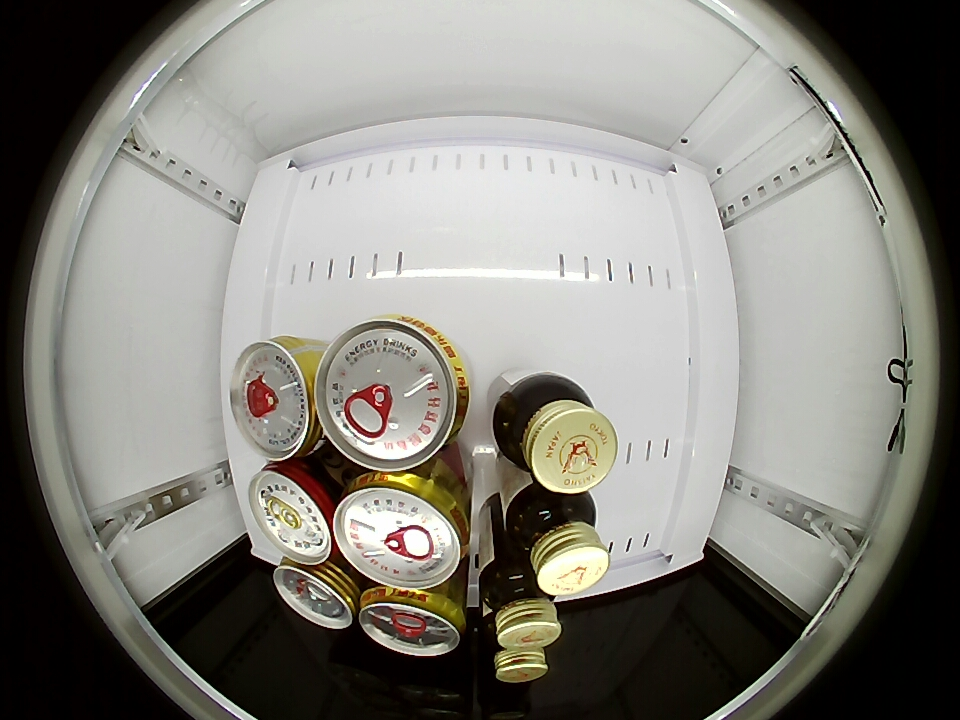dongpeng: (315, 315, 470, 471), (333, 469, 470, 590), (358, 585, 467, 657)
hongniu: (229, 337, 324, 461)
hongniu2: (273, 557, 361, 631)
libaojian: (492, 373, 619, 494), (501, 482, 610, 598), (481, 558, 561, 650), (481, 623, 550, 682)
wangzainiunai: (246, 459, 340, 566)
